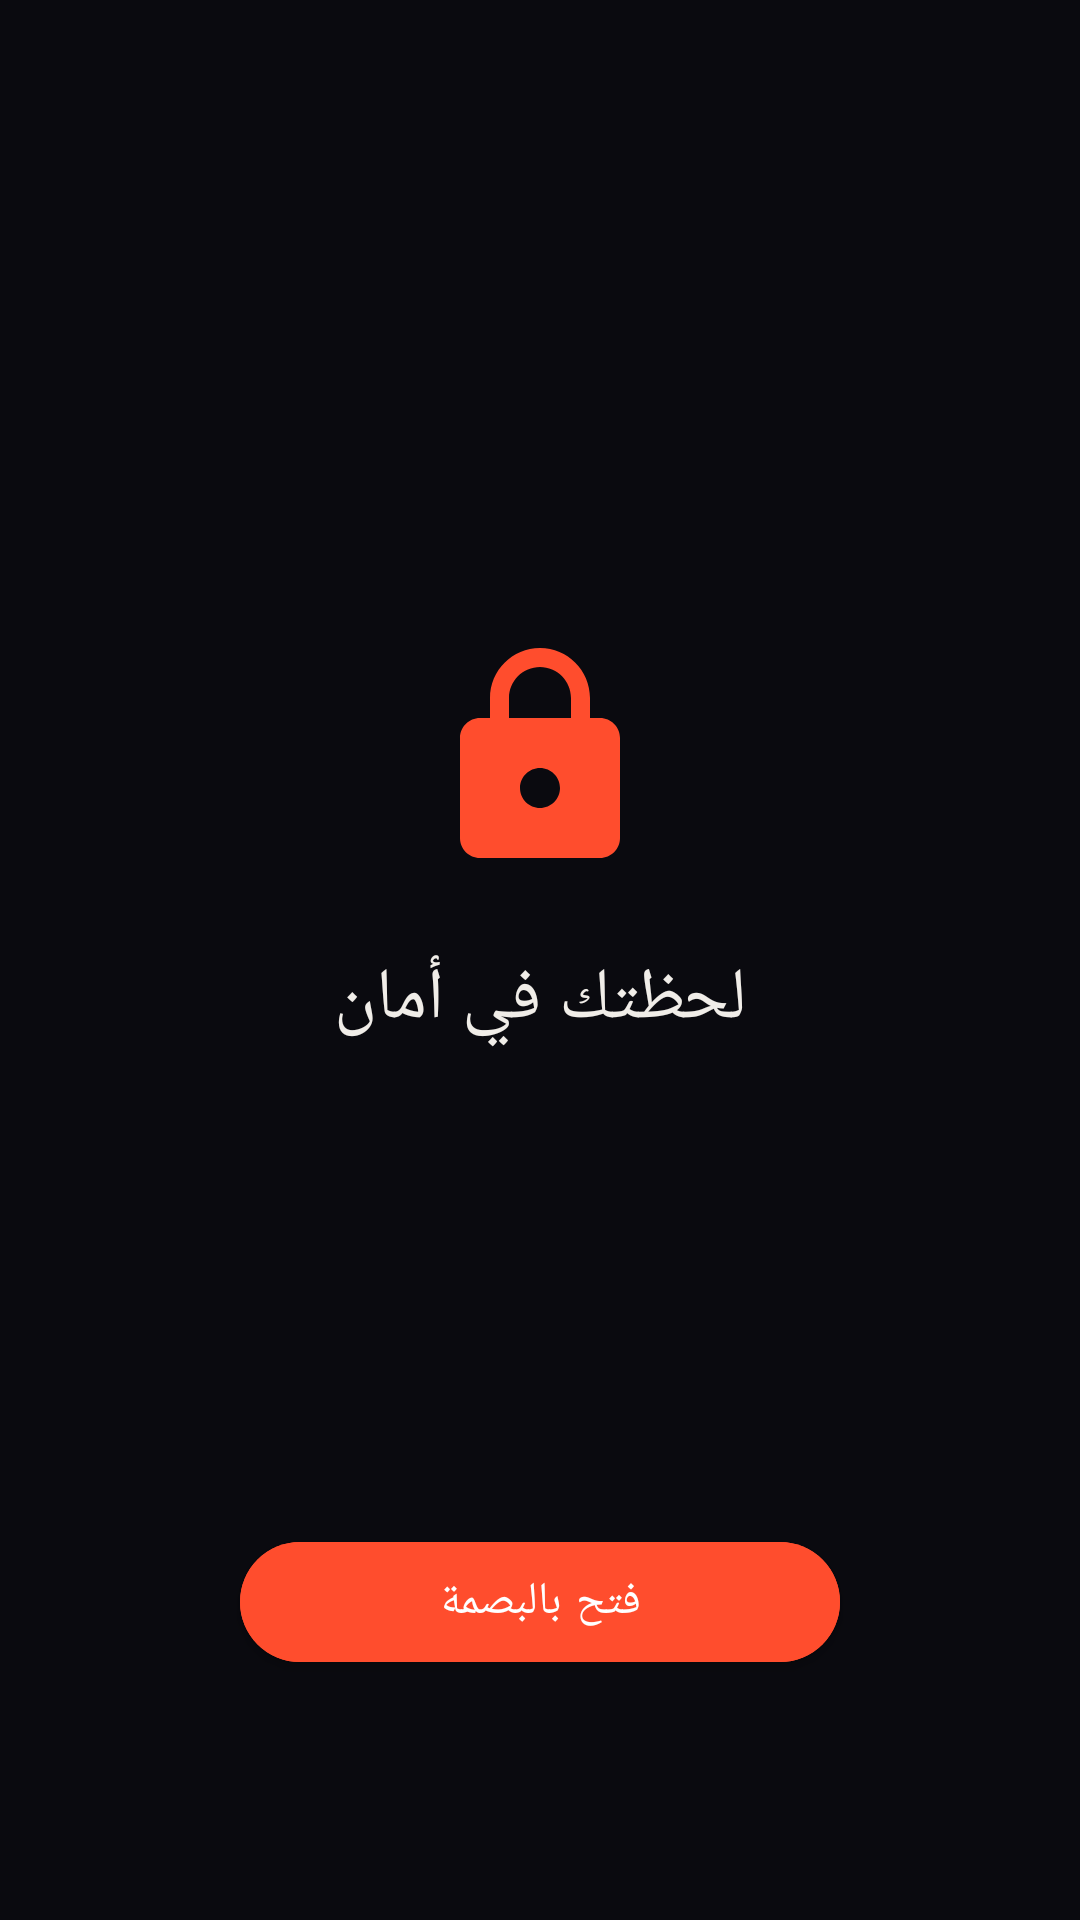

Named icons in this screenshot (1080 x 1920) and their centers, (x=x, y=y):
lock: (x=540, y=753)
